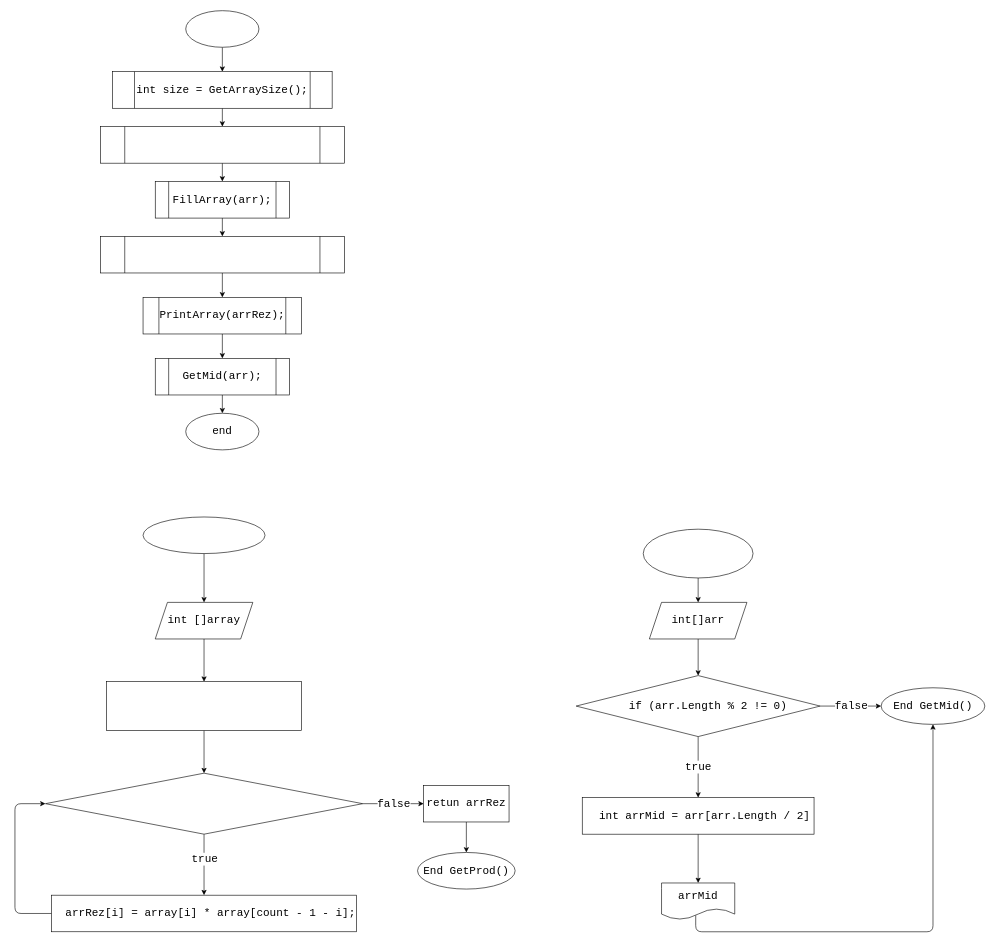
This 996x947 diagram has some shape labels left out. Here are the shapes that lost their labels. From the top down, the box of each, then its label:
(185, 10, 259, 47): Start
(100, 126, 344, 163): int[] arr = FirstArray(size);
(100, 236, 344, 273): int[] arrRez = GetProd(arr);
(142, 516, 265, 554): Start GetProd();
(643, 529, 753, 578): Start GetMid()
(106, 681, 302, 730): int[] arrRez = new int[array.Length / 2]; int count = array.Length;
(45, 773, 363, 834): for (int i = 0; i < count / 2; i++)
